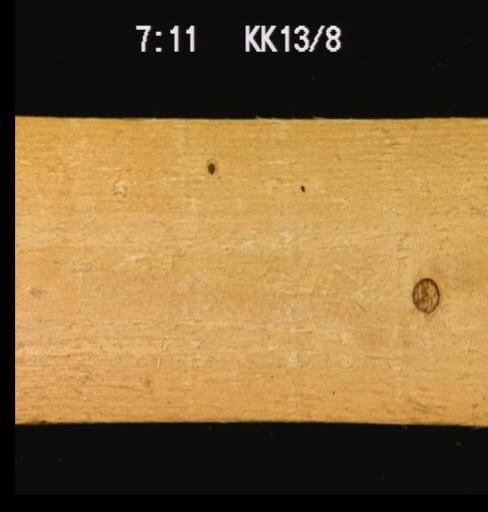dry_knot: (408, 275, 440, 314)
small_knot: (203, 157, 216, 177)
